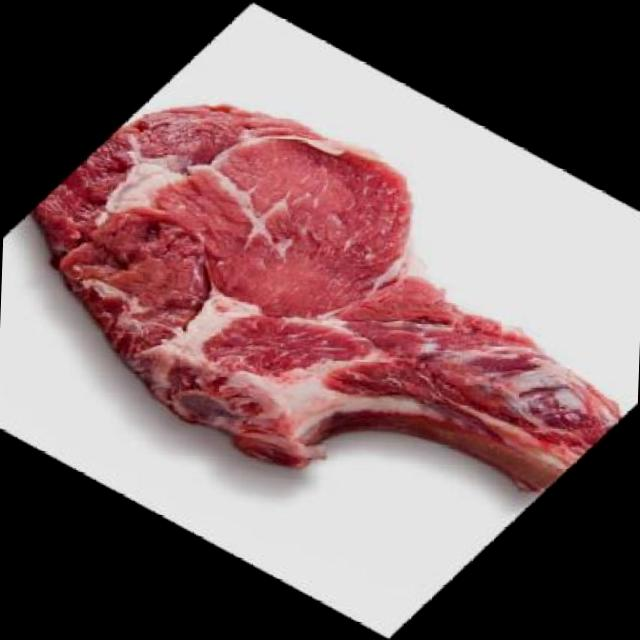beef: (22, 91, 636, 494)
